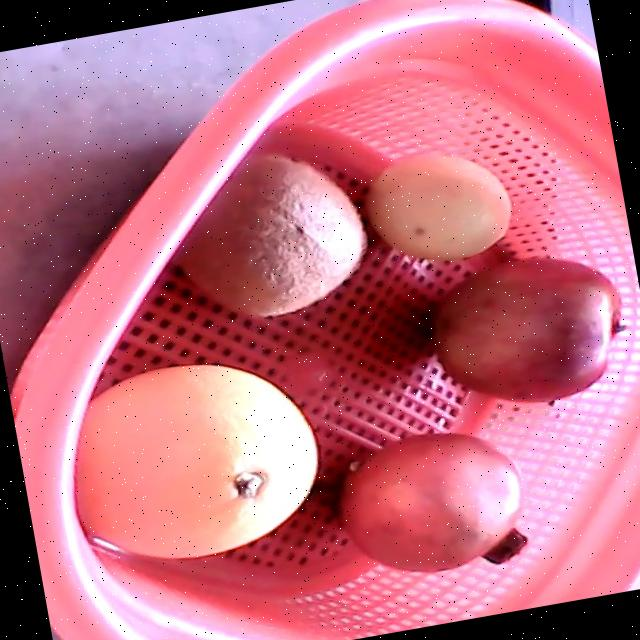apple: (429, 258, 626, 402)
kiwi: (175, 156, 362, 318)
lemon: (365, 155, 510, 262)
orange: (70, 364, 318, 556)
pomegranate: (338, 432, 528, 572)
